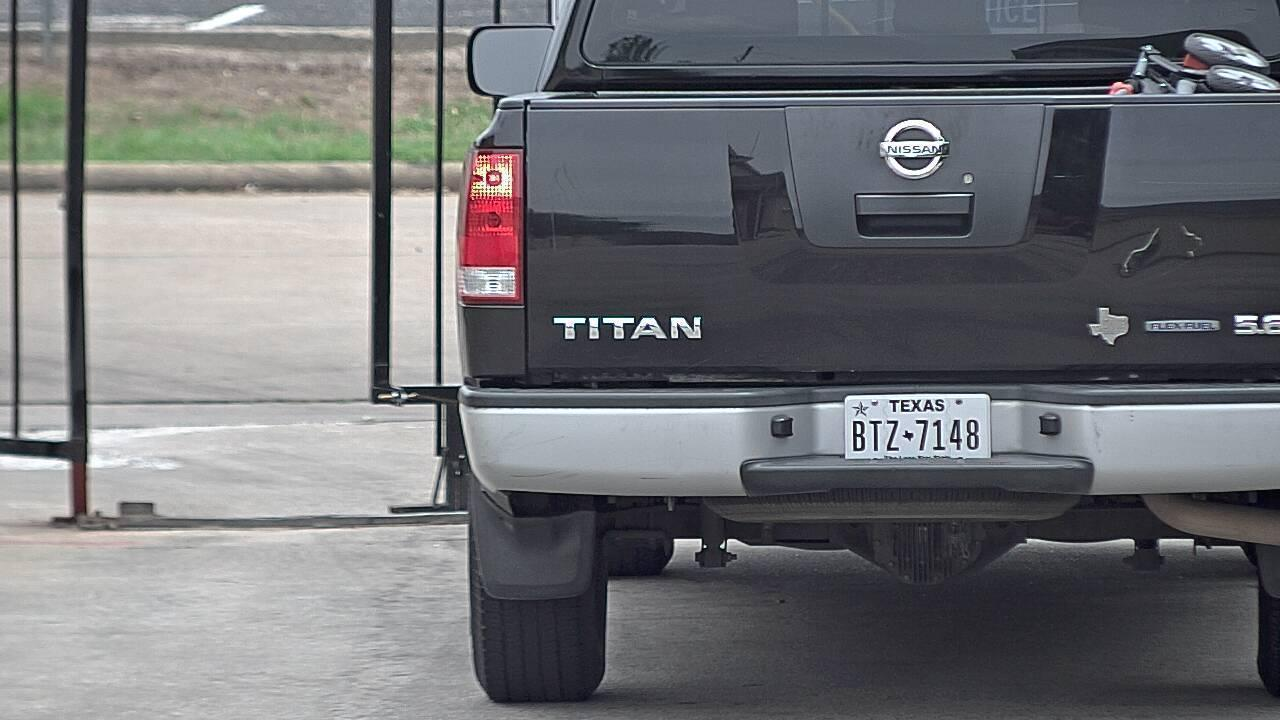placa de veiculo: (801, 374, 1018, 488)
